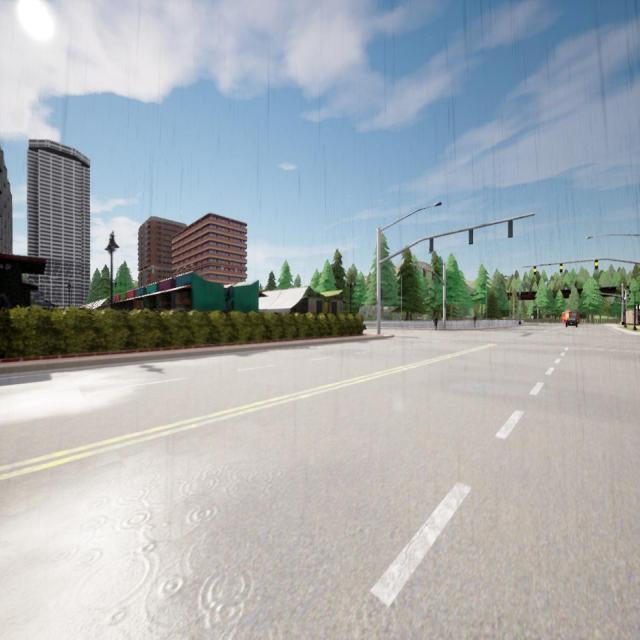Pedestrian: (433, 315, 438, 330), (473, 312, 476, 328)
Traffic_Signs: (530, 315, 534, 319)
Vehicle: (562, 311, 579, 324), (566, 318, 577, 327)
traffic_light: (508, 220, 513, 238), (469, 229, 473, 244), (430, 238, 433, 250), (595, 260, 598, 269), (423, 269, 426, 277), (560, 264, 563, 272), (534, 266, 536, 275), (415, 266, 416, 272), (445, 300, 446, 306), (594, 294, 596, 297), (432, 272, 433, 276), (592, 302, 594, 304), (583, 302, 584, 305), (604, 301, 605, 304)
